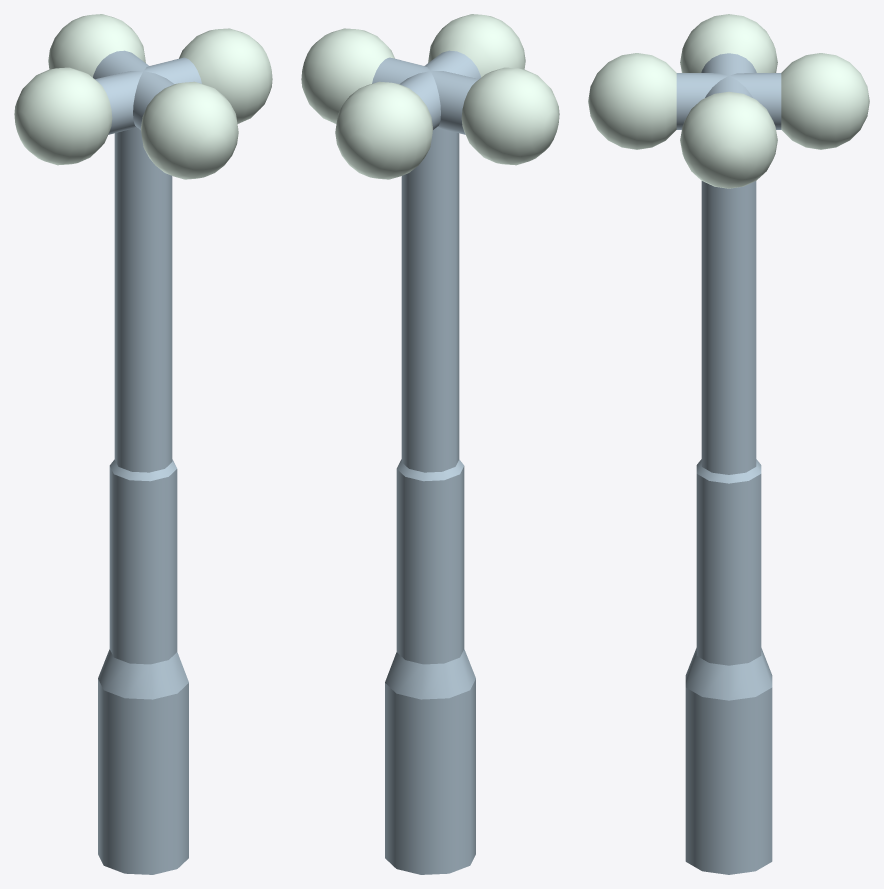
File: streetlight_08.fbx
3 views of the same model, side by side, from view 1: azimuth 30°, elevation 25°; view 2: azimuth 150°, elevation 25°; view 3: azimuth 270°, elevation 25° (orthographic).
Parts seen in each view (by area): view 1: streetlight_08, pSphere17, pSphere16, pSphere15, pSphere18; view 2: streetlight_08, pSphere17, pSphere18, pSphere15, pSphere16; view 3: streetlight_08, pSphere18, pSphere16, pSphere15, pSphere17.
Boxes of the visible parts, x1=… form: streetlight_08: x1=98, y1=126, x2=188, y2=874; pSphere17: x1=14, y1=67, x2=143, y2=165; pSphere16: x1=133, y1=71, x2=238, y2=179; pSphere15: x1=144, y1=28, x2=272, y2=123; pSphere18: x1=48, y1=14, x2=149, y2=78; streetlight_08: x1=385, y1=126, x2=475, y2=874; pSphere17: x1=430, y1=67, x2=559, y2=165; pSphere18: x1=335, y1=71, x2=440, y2=179; pSphere15: x1=301, y1=28, x2=429, y2=123; pSphere16: x1=424, y1=14, x2=525, y2=78; streetlight_08: x1=685, y1=181, x2=772, y2=874; pSphere18: x1=729, y1=53, x2=869, y2=149; pSphere16: x1=588, y1=53, x2=728, y2=149; pSphere15: x1=680, y1=76, x2=777, y2=188; pSphere17: x1=680, y1=14, x2=777, y2=75.
Size of the model in its own units: 1.33 by 4.17 by 1.33.
